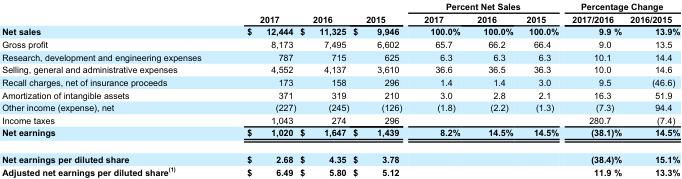table: (1, 1, 679, 176)
table column: (1, 1, 223, 176), (223, 1, 297, 176), (350, 1, 412, 176), (564, 1, 625, 176), (412, 1, 467, 176), (625, 1, 679, 176), (297, 1, 350, 176), (467, 1, 519, 176), (519, 1, 564, 176)
table column header: (1, 1, 679, 25)
table row: (1, 126, 679, 145), (1, 145, 679, 164), (1, 12, 679, 25), (1, 37, 679, 50), (1, 62, 679, 75), (1, 75, 679, 88), (1, 100, 679, 113), (1, 113, 679, 126), (1, 25, 679, 37), (1, 50, 679, 62), (1, 88, 679, 100), (1, 164, 679, 176), (1, 1, 679, 12)
table spanning cell: (223, 1, 297, 25), (412, 1, 564, 12), (350, 1, 412, 25), (297, 1, 350, 25), (564, 1, 679, 12)
